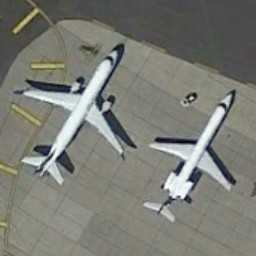Airplane: (11, 36, 129, 192), (138, 71, 241, 230)
